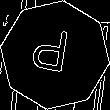P_S: (33, 27, 77, 83)
